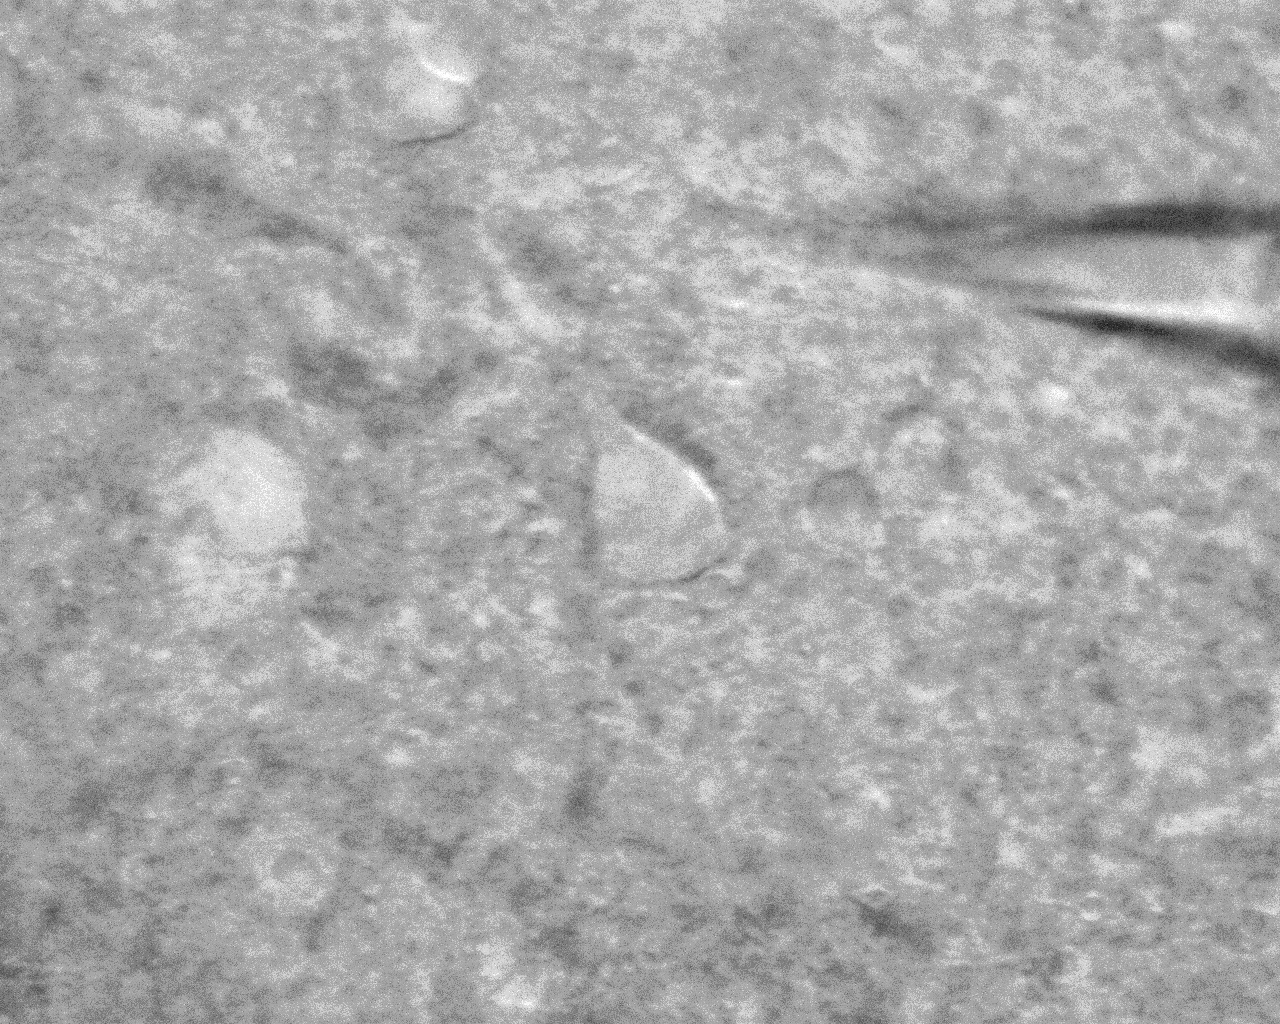neuron: (562, 381, 744, 605)
